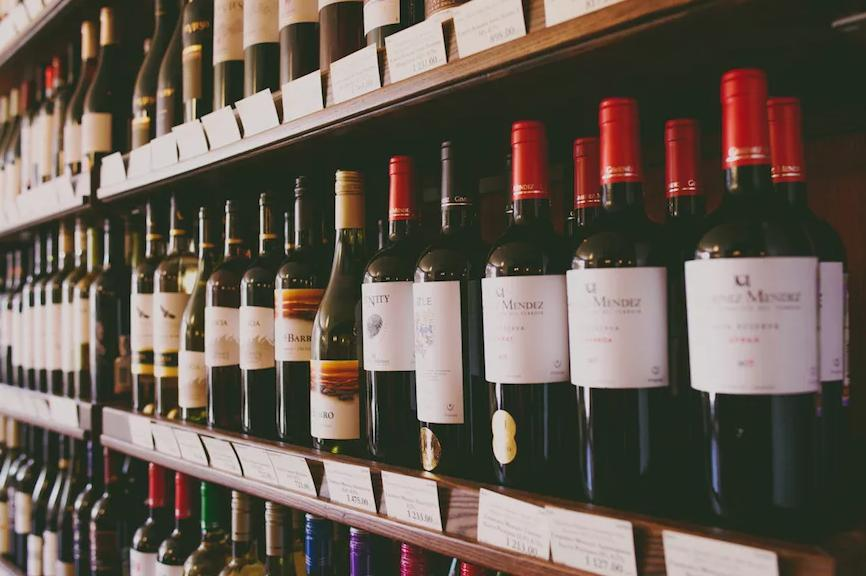wine bottle: (683, 68, 825, 547), (565, 97, 694, 519), (481, 121, 581, 501), (768, 97, 848, 535), (413, 139, 494, 484), (362, 154, 434, 471), (311, 170, 369, 461), (274, 176, 334, 448), (204, 199, 254, 434), (241, 191, 288, 441), (153, 180, 200, 422), (176, 204, 226, 428), (80, 1, 135, 172), (130, 193, 169, 419), (129, 0, 174, 150), (664, 118, 707, 251), (64, 18, 98, 178), (129, 461, 174, 576), (90, 447, 126, 575)
wine label: (685, 256, 820, 395), (567, 267, 669, 389), (484, 275, 569, 384), (413, 281, 464, 424), (362, 280, 415, 370), (310, 357, 361, 440), (273, 287, 329, 362), (157, 293, 192, 380), (821, 258, 844, 382), (204, 305, 242, 367), (241, 307, 276, 369), (130, 292, 154, 377), (179, 350, 206, 408), (91, 529, 123, 573), (80, 112, 113, 153), (130, 89, 152, 149), (62, 125, 82, 165), (131, 547, 158, 576)
